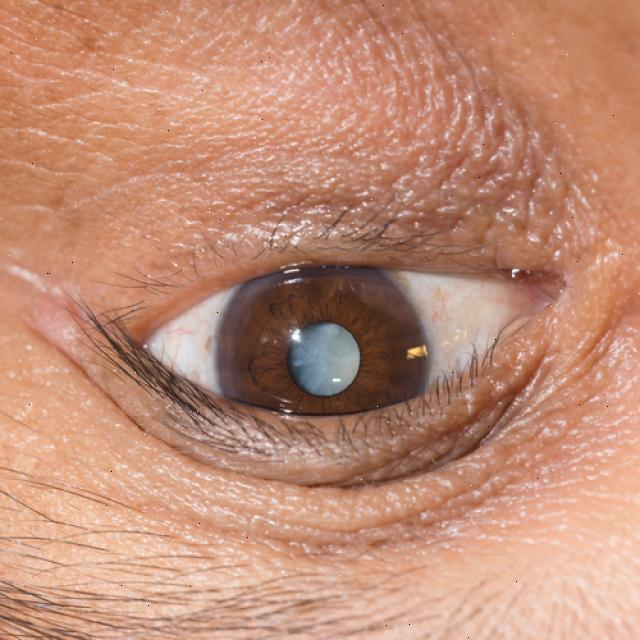Cataract: (222, 252, 432, 470)
